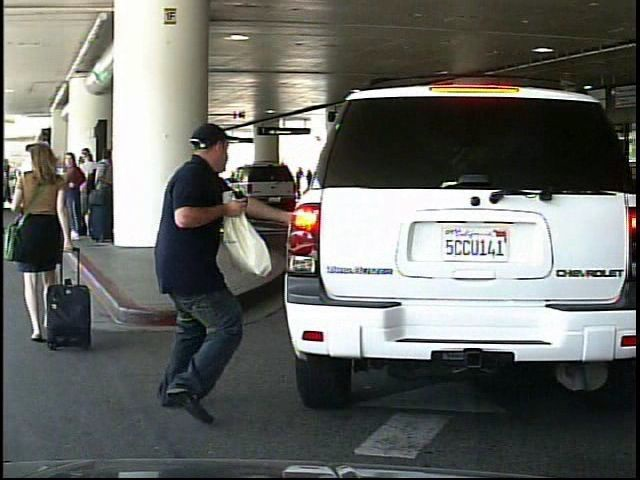person: (149, 105, 273, 427), (7, 134, 74, 350)
